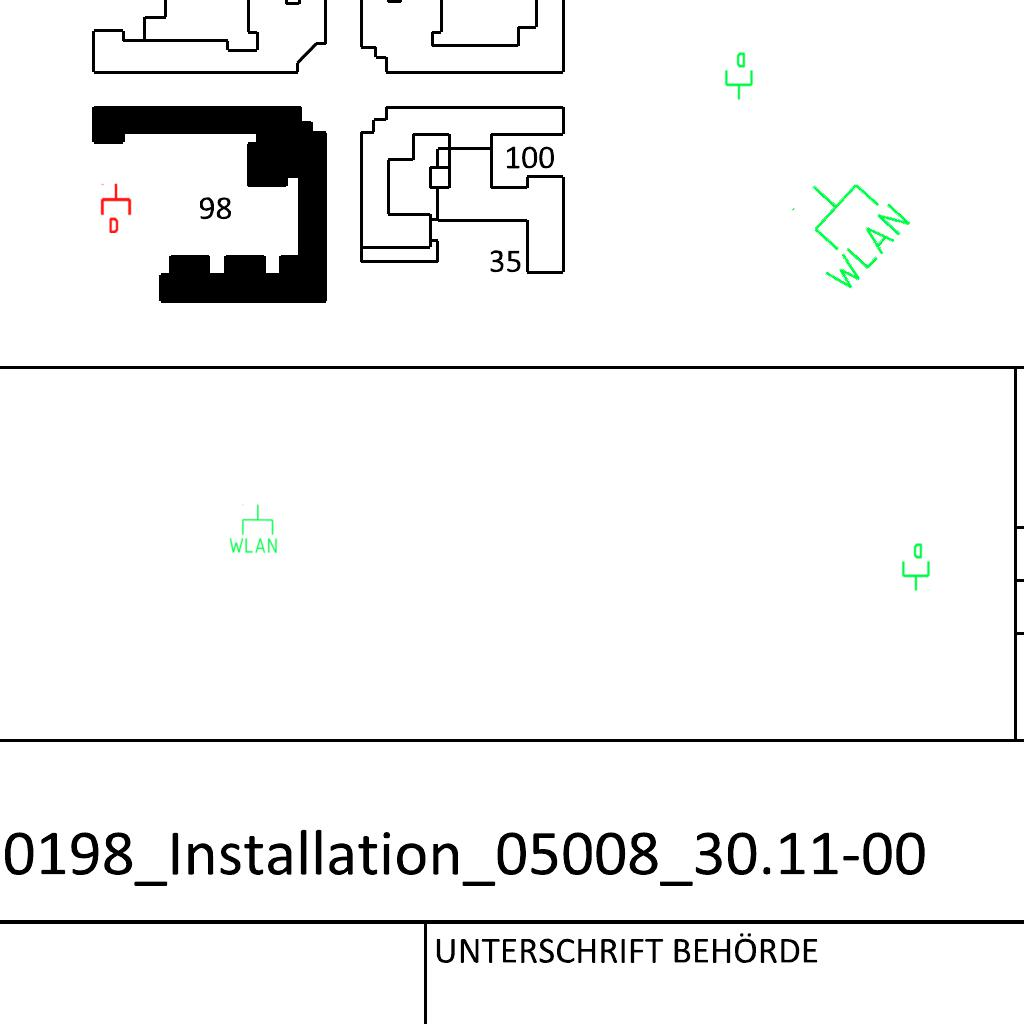Datenanschluss_einfach: (99, 183, 133, 233), (898, 542, 932, 592), (721, 51, 755, 101)
WLAN: (769, 152, 917, 301), (227, 503, 279, 555)
